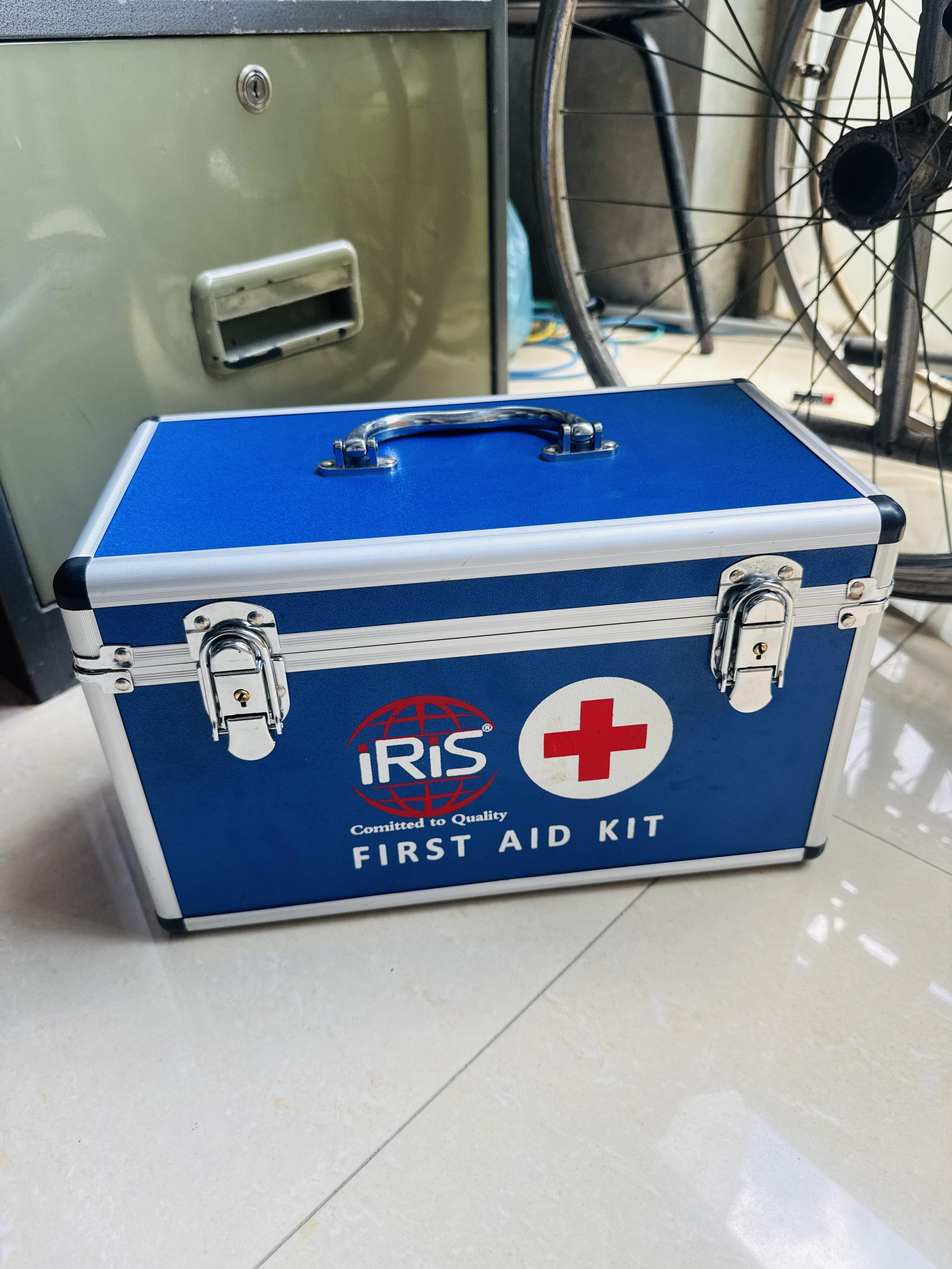FirstAidBox: (39, 366, 929, 964)
